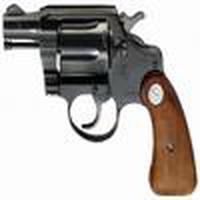gun: (3, 12, 196, 197)
